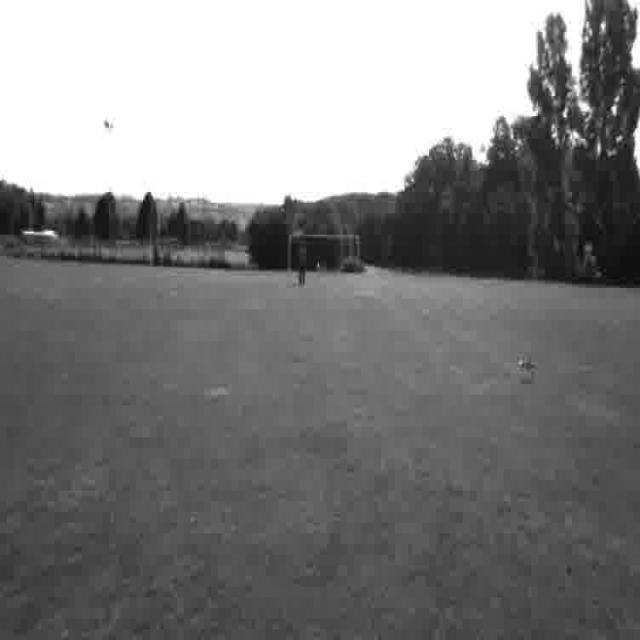drone: (21, 225, 61, 239)
